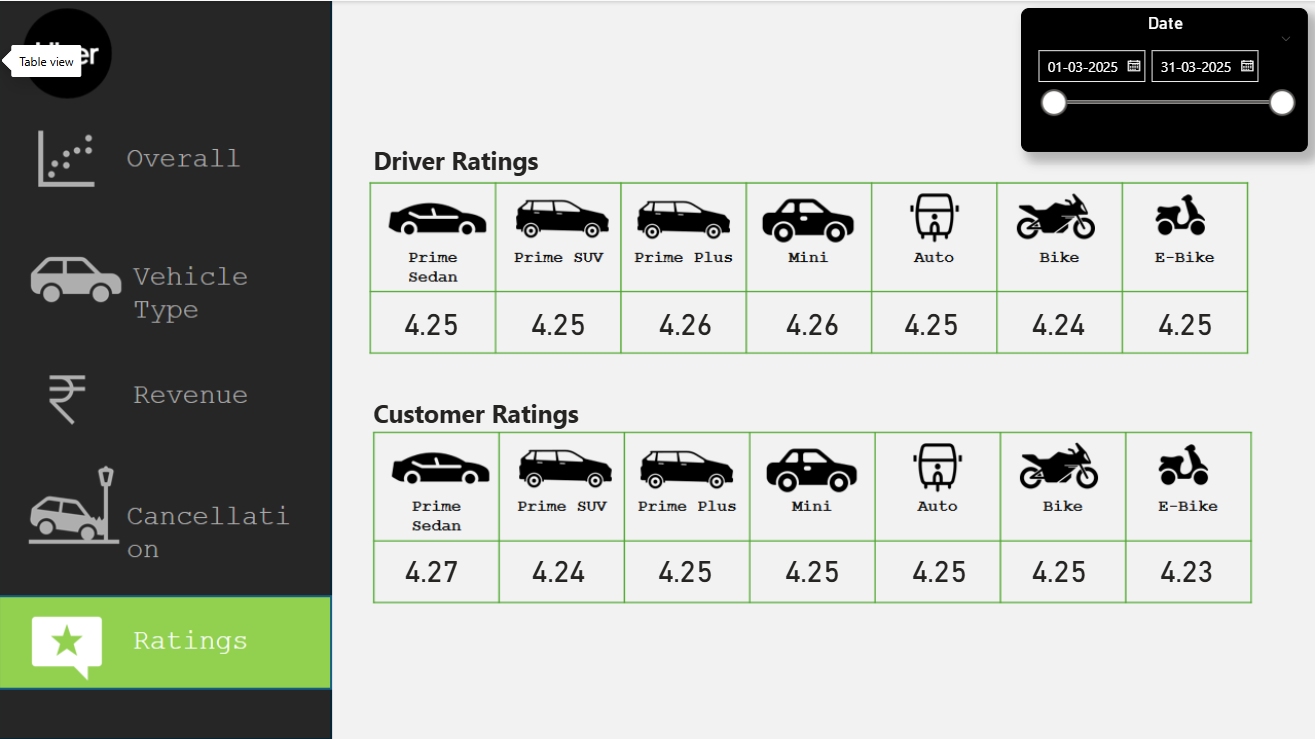

The dashboard page shown, as its layout file describes it:
{"tool":"powerbi","page":{"name":"Ratings","canvas":[1280,720],"ordinal":4},"visuals":[{"type":"actionButton","box":[0,228.6,324.9,94.3],"z":0},{"type":"actionButton","box":[0,343.2,324.5,90.4],"z":1000},{"type":"actionButton","box":[0,107.3,324.5,94],"z":2000},{"type":"actionButton","box":[0,439.8,324.5,121.5],"z":3000},{"type":"card","fields":{"Values":["Avg(Sheet1 (2).Driver_Ratings)"]},"box":[358.9,283,123.5,60.3],"z":4000},{"type":"card","fields":{"Values":["Avg(Sheet1 (2).Driver_Ratings)"]},"box":[482.4,283,123.5,60.3],"z":5000},{"type":"card","fields":{"Values":["Avg(Sheet1 (2).Driver_Ratings)"]},"box":[606,283,123.5,60.3],"z":6000},{"type":"card","fields":{"Values":["Avg(Sheet1 (2).Driver_Ratings)"]},"box":[729.5,283,123.5,60.3],"z":7000},{"type":"card","fields":{"Values":["Avg(Sheet1 (2).Driver_Ratings)"]},"box":[845.2,283,123.5,60.3],"z":8000},{"type":"card","fields":{"Values":["Avg(Sheet1 (2).Driver_Ratings)"]},"box":[968.8,283,123.5,60.3],"z":9000},{"type":"card","fields":{"Values":["Avg(Sheet1 (2).Driver_Ratings)"]},"box":[1092.3,283,123.5,60.3],"z":10000},{"type":"card","fields":{"Values":["Avg(Sheet1 (2).Customer_Rating)"]},"box":[358.9,523.3,123.5,60.3],"z":11000},{"type":"card","fields":{"Values":["Avg(Sheet1 (2).Customer_Rating)"]},"box":[482.4,523.3,123.5,60.3],"z":12000},{"type":"card","fields":{"Values":["Avg(Sheet1 (2).Customer_Rating)"]},"box":[606,523.3,123.5,60.3],"z":13000},{"type":"card","fields":{"Values":["Avg(Sheet1 (2).Customer_Rating)"]},"box":[729.5,523.3,123.5,60.3],"z":14000},{"type":"card","fields":{"Values":["Avg(Sheet1 (2).Customer_Rating)"]},"box":[853,523.3,123.5,60.3],"z":15000},{"type":"card","fields":{"Values":["Avg(Sheet1 (2).Customer_Rating)"]},"box":[970.1,523.4,123,60],"z":16000},{"type":"card","fields":{"Values":["Avg(Sheet1 (2).Customer_Rating)"]},"box":[1093.1,523.4,124,60],"z":17000},{"type":"textbox","box":[359.1,132.8,171.2,43.3],"z":18000},{"type":"textbox","box":[359.1,379.8,215.5,42.3],"z":19000},{"type":"slicer","title":"Date","fields":{"Values":["Sheet1 (2).Date"]},"box":[993.7,6.9,279.4,139.7],"z":20000}]}

Visuals, with their boxes on the page's 1280x720 design canvas (x1, y1, x2, y2). These are canvas units, not pixel positions in the 1315x739 screenshot, which may show the page scaled, cropped or inside an application window:
actionButton: Rect(0, 229, 325, 323)
actionButton: Rect(0, 343, 324, 434)
actionButton: Rect(0, 107, 324, 201)
actionButton: Rect(0, 440, 324, 561)
card - Avg(Sheet1 (2).Driver_Ratings): Rect(359, 283, 482, 343)
card - Avg(Sheet1 (2).Driver_Ratings): Rect(482, 283, 606, 343)
card - Avg(Sheet1 (2).Driver_Ratings): Rect(606, 283, 730, 343)
card - Avg(Sheet1 (2).Driver_Ratings): Rect(730, 283, 853, 343)
card - Avg(Sheet1 (2).Driver_Ratings): Rect(845, 283, 969, 343)
card - Avg(Sheet1 (2).Driver_Ratings): Rect(969, 283, 1092, 343)
card - Avg(Sheet1 (2).Driver_Ratings): Rect(1092, 283, 1216, 343)
card - Avg(Sheet1 (2).Customer_Rating): Rect(359, 523, 482, 584)
card - Avg(Sheet1 (2).Customer_Rating): Rect(482, 523, 606, 584)
card - Avg(Sheet1 (2).Customer_Rating): Rect(606, 523, 730, 584)
card - Avg(Sheet1 (2).Customer_Rating): Rect(730, 523, 853, 584)
card - Avg(Sheet1 (2).Customer_Rating): Rect(853, 523, 976, 584)
card - Avg(Sheet1 (2).Customer_Rating): Rect(970, 523, 1093, 583)
card - Avg(Sheet1 (2).Customer_Rating): Rect(1093, 523, 1217, 583)
textbox: Rect(359, 133, 530, 176)
textbox: Rect(359, 380, 575, 422)
"Date" slicer: Rect(994, 7, 1273, 147)
